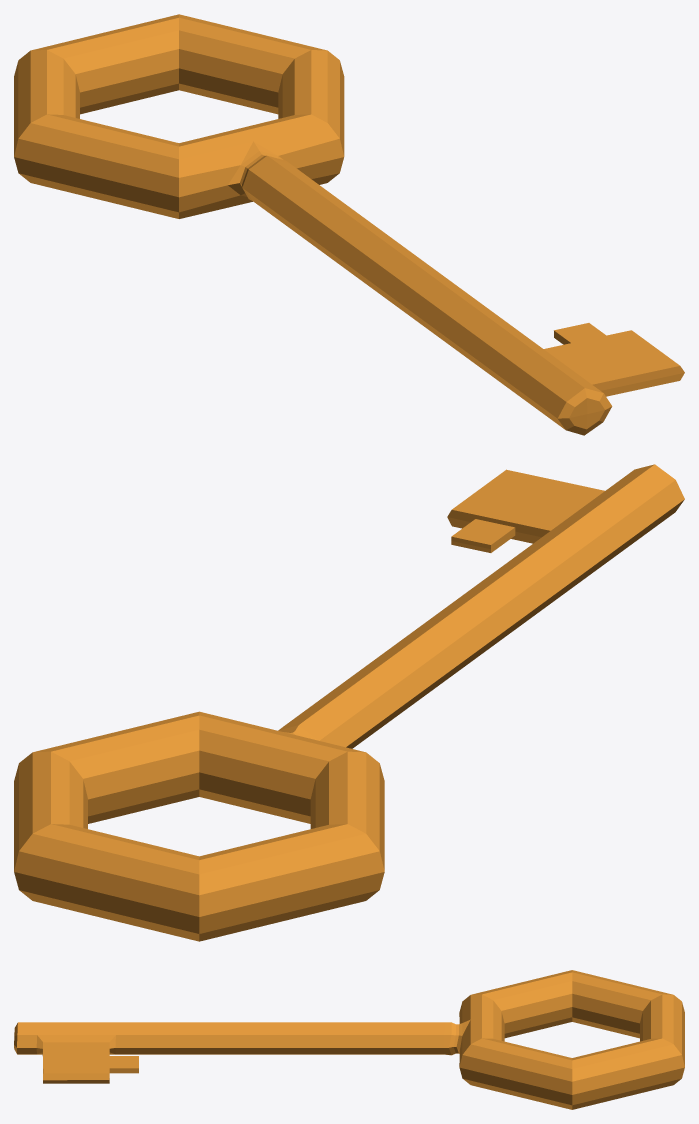
File: golden_key.fbx
3 views of the same model, one above another, from view 1: azimuth 30°, elevation 25°; view 2: azimuth 150°, elevation 25°; view 3: azimuth 270°, elevation 25° (orthographic). The views are drawn at different scales.
Parts seen in each view (by area): view 1: Torus; view 2: Torus; view 3: Torus.
Boxes of the visible parts, bbox=[...] form: Torus: bbox=[14, 14, 684, 435]; Torus: bbox=[14, 464, 684, 941]; Torus: bbox=[14, 970, 684, 1109].
Bounding box in the file's own units: 250 × 50 × 644.
